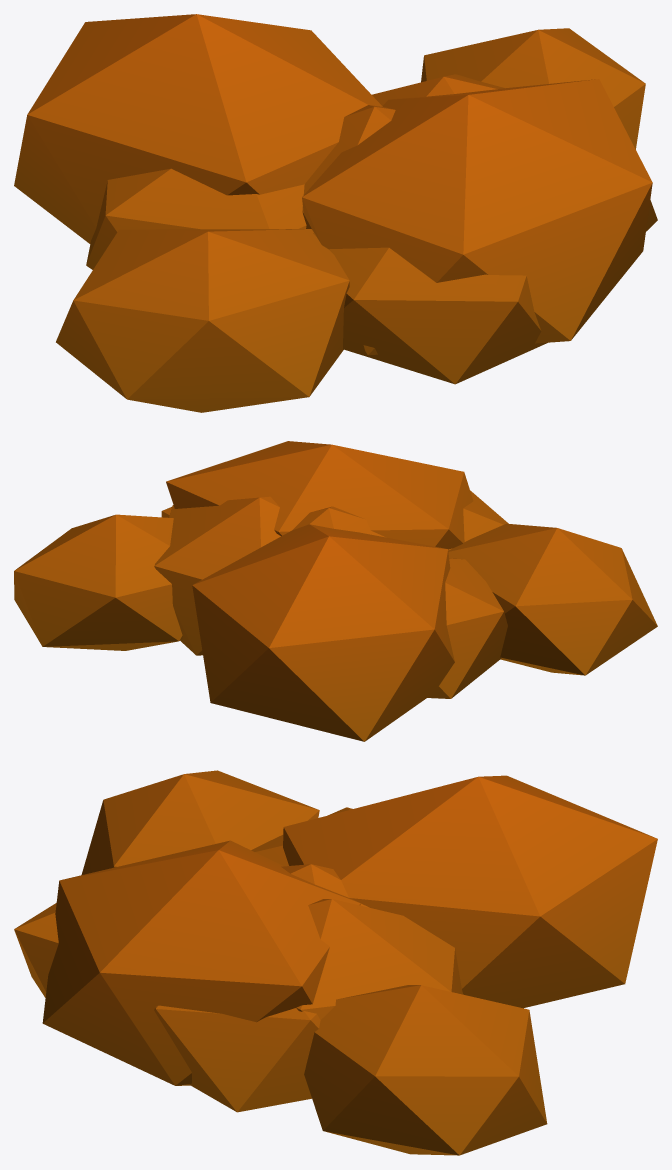
File: SM_Nature_Cailloux_B.fbx
The picture shows the model from 3 angles, top to bottom: view 1: azimuth 30°, elevation 25°; view 2: azimuth 150°, elevation 25°; view 3: azimuth 270°, elevation 25°; orthographic projection. The views are drawn at different scales.
Visible parts, largest first — view 1: SM_Nature_Cailloux_B_LOD0; view 2: SM_Nature_Cailloux_B_LOD0; view 3: SM_Nature_Cailloux_B_LOD0.
Part boxes in pixels (<box>): SM_Nature_Cailloux_B_LOD0: <box>14,14,657,412</box>; SM_Nature_Cailloux_B_LOD0: <box>14,441,657,741</box>; SM_Nature_Cailloux_B_LOD0: <box>14,770,657,1155</box>.
Size of what is drawn, in the model's own units: 0.3792 by 0.1365 by 0.3268.
